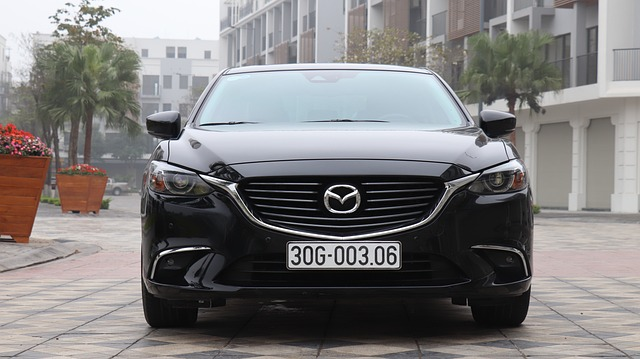number_plate: (287, 241, 402, 270)
